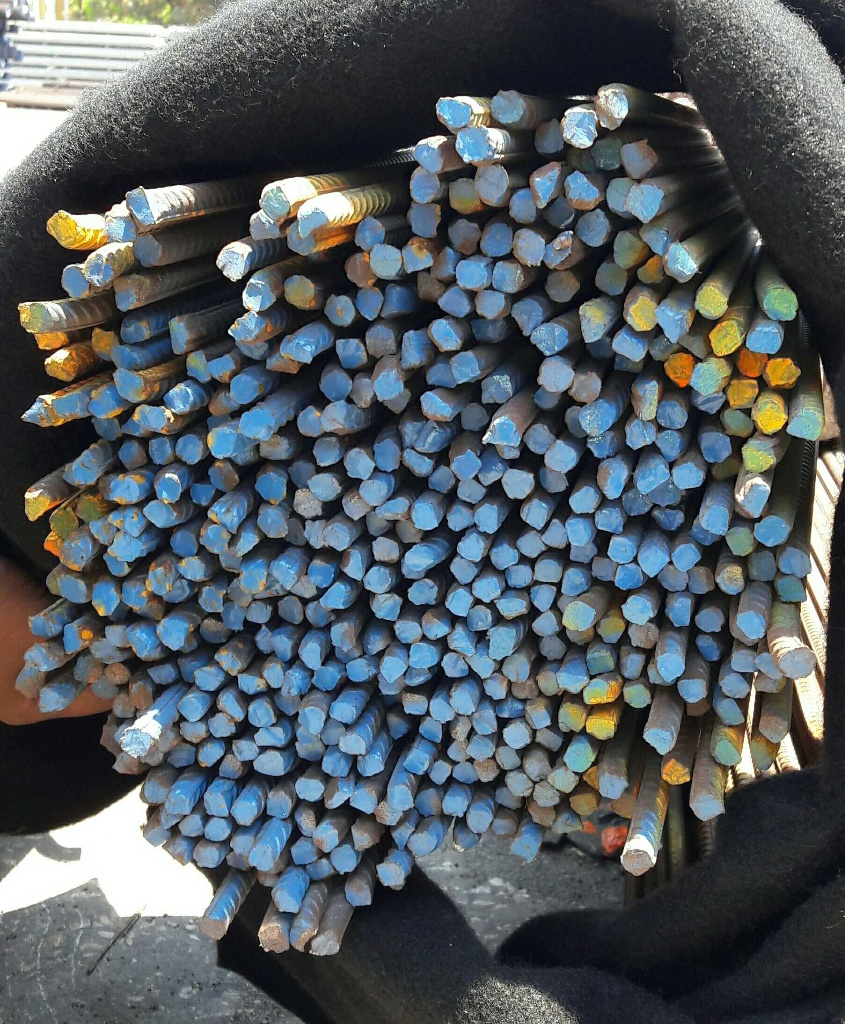dipstickw: (663, 241, 699, 282), (456, 126, 492, 166), (626, 185, 663, 222), (561, 109, 597, 147), (475, 163, 508, 204), (621, 142, 657, 178), (736, 479, 770, 517), (127, 188, 157, 231), (565, 172, 598, 211), (595, 90, 628, 129), (655, 306, 691, 341), (613, 232, 647, 268), (126, 627, 163, 660), (778, 647, 817, 678), (106, 206, 137, 244), (449, 178, 482, 213), (575, 211, 608, 246), (47, 210, 79, 246), (545, 233, 577, 269), (531, 323, 568, 354), (513, 229, 544, 266), (580, 308, 613, 342), (625, 297, 659, 330), (709, 321, 741, 356), (409, 203, 440, 239), (480, 223, 513, 256), (113, 367, 145, 401), (428, 320, 462, 352), (539, 360, 573, 392), (491, 90, 525, 122), (449, 219, 480, 254), (436, 97, 471, 128), (607, 177, 638, 212), (25, 397, 61, 427), (156, 620, 192, 650), (230, 313, 266, 343), (531, 171, 560, 208), (320, 402, 353, 434), (345, 254, 377, 287), (637, 460, 669, 493), (595, 262, 627, 295), (696, 286, 728, 319), (764, 289, 797, 321), (545, 271, 579, 302), (742, 441, 776, 472), (18, 303, 53, 333), (238, 410, 273, 440), (512, 300, 542, 335), (613, 331, 648, 361), (754, 516, 789, 546), (484, 418, 520, 447), (411, 167, 440, 203), (508, 188, 537, 224), (320, 370, 352, 402), (370, 244, 401, 277), (579, 403, 612, 434), (692, 362, 725, 393), (217, 248, 249, 279), (336, 338, 367, 370), (534, 121, 565, 153), (287, 221, 317, 254), (242, 280, 275, 310), (562, 601, 595, 631), (402, 330, 428, 368), (62, 265, 91, 299), (260, 187, 289, 221), (478, 451, 506, 486), (746, 325, 781, 353), (255, 473, 286, 504), (524, 423, 555, 454), (592, 138, 623, 169), (701, 432, 732, 463), (366, 326, 396, 358), (450, 352, 480, 384), (492, 261, 522, 293), (755, 402, 787, 432), (721, 408, 753, 438), (109, 532, 142, 561), (420, 392, 453, 421), (665, 354, 694, 387), (25, 643, 59, 671), (788, 413, 822, 441), (15, 667, 46, 697), (503, 469, 534, 499), (481, 375, 512, 405), (325, 295, 355, 326), (299, 208, 329, 239), (639, 226, 669, 257), (737, 346, 767, 377), (46, 352, 78, 381), (119, 728, 151, 757), (281, 335, 313, 364), (384, 285, 413, 317), (779, 548, 811, 577), (135, 405, 168, 433), (438, 288, 471, 316), (92, 327, 119, 361), (209, 461, 239, 491), (570, 373, 600, 403), (623, 595, 653, 625), (85, 254, 114, 285), (285, 275, 314, 306), (257, 509, 288, 538), (345, 448, 374, 479), (415, 420, 444, 451), (456, 260, 487, 289), (639, 548, 670, 577), (727, 379, 758, 408), (133, 234, 161, 266), (308, 474, 341, 501), (621, 849, 654, 876), (766, 358, 799, 385), (93, 581, 119, 615), (690, 795, 724, 821), (323, 747, 352, 777), (403, 449, 433, 478), (475, 290, 505, 319), (402, 245, 432, 274), (747, 551, 776, 581), (356, 218, 384, 249), (415, 142, 443, 173), (658, 430, 686, 461), (113, 278, 140, 310), (143, 500, 175, 527), (356, 289, 383, 321), (121, 314, 150, 343), (110, 475, 139, 504), (230, 374, 259, 403), (546, 442, 575, 471), (596, 469, 625, 498), (164, 384, 192, 414), (50, 507, 78, 537), (169, 319, 193, 354), (626, 420, 656, 448), (701, 506, 729, 536), (726, 527, 756, 555), (217, 690, 244, 721), (258, 926, 289, 953), (58, 575, 87, 603), (295, 488, 323, 517), (422, 611, 451, 639), (447, 629, 476, 657), (658, 400, 687, 428), (737, 610, 765, 639), (89, 391, 119, 418), (74, 656, 104, 683), (207, 428, 234, 458), (411, 502, 441, 529), (375, 371, 402, 401), (298, 406, 324, 437), (374, 440, 400, 471), (489, 628, 515, 659), (186, 350, 210, 383), (73, 456, 101, 484), (249, 211, 277, 239), (363, 627, 391, 655), (60, 542, 87, 571), (201, 525, 230, 552), (305, 601, 334, 628), (269, 562, 298, 589), (343, 491, 370, 520), (313, 437, 340, 466), (521, 500, 548, 529), (622, 488, 651, 515), (155, 473, 181, 503), (176, 434, 202, 464), (364, 567, 394, 593), (517, 531, 547, 557), (629, 622, 659, 648), (40, 687, 71, 712), (254, 751, 285, 776), (672, 463, 703, 488), (376, 498, 409, 521), (119, 441, 146, 469), (197, 739, 224, 767), (207, 355, 234, 383), (248, 700, 276, 727), (415, 788, 442, 816), (323, 523, 351, 550), (467, 734, 495, 761), (501, 655, 529, 682), (428, 465, 455, 493), (461, 404, 489, 431), (595, 508, 623, 535), (657, 652, 685, 679), (673, 544, 701, 571), (756, 652, 783, 680), (321, 584, 350, 610), (408, 579, 437, 605), (569, 486, 598, 512), (644, 729, 673, 755), (598, 773, 627, 799), (759, 717, 788, 743), (64, 624, 89, 654), (350, 378, 375, 408), (260, 435, 291, 459), (425, 364, 456, 388), (294, 738, 326, 761), (565, 406, 588, 438), (122, 581, 149, 608), (445, 589, 472, 616), (565, 744, 592, 771), (695, 635, 722, 662), (565, 518, 591, 546), (662, 759, 690, 785), (661, 565, 689, 591), (717, 567, 745, 593), (548, 768, 577, 793), (474, 504, 499, 533), (451, 455, 480, 480), (695, 607, 724, 632), (777, 576, 806, 601), (721, 673, 750, 698), (583, 680, 614, 703), (341, 549, 363, 581), (298, 707, 324, 734), (345, 880, 372, 906), (313, 825, 339, 852), (352, 824, 379, 850), (215, 649, 241, 676), (374, 594, 401, 620), (372, 537, 399, 563), (512, 835, 538, 862), (587, 649, 614, 675), (615, 563, 642, 589), (718, 699, 745, 725), (75, 495, 100, 523), (168, 741, 196, 766), (290, 925, 315, 953), (359, 480, 387, 505), (395, 519, 423, 544), (533, 781, 561, 806), (441, 652, 469, 677), (472, 577, 500, 602), (490, 545, 518, 570), (542, 521, 567, 549), (111, 346, 140, 370), (194, 666, 223, 690), (200, 618, 229, 642), (222, 601, 246, 630), (278, 596, 302, 625), (409, 644, 438, 668), (608, 539, 637, 563), (751, 741, 775, 770), (495, 598, 528, 619), (25, 491, 48, 521), (171, 530, 197, 556), (380, 655, 406, 681), (447, 505, 473, 531), (611, 793, 637, 819), (689, 567, 715, 593), (148, 567, 173, 594), (91, 637, 118, 662), (149, 437, 174, 464), (350, 788, 377, 813), (331, 622, 356, 649), (289, 462, 316, 487), (559, 707, 586, 732), (451, 558, 476, 585), (598, 618, 625, 643), (312, 667, 340, 691), (403, 750, 431, 774), (92, 417, 121, 440), (678, 679, 707, 702), (557, 672, 588, 693), (203, 792, 229, 817), (178, 557, 204, 582), (321, 719, 346, 745), (531, 585, 556, 611), (458, 534, 483, 560), (715, 739, 741, 764), (267, 792, 291, 819), (273, 889, 300, 913), (331, 845, 355, 872), (386, 712, 410, 739), (296, 778, 324, 801), (408, 833, 436, 856), (376, 802, 404, 825), (394, 620, 422, 643), (586, 717, 615, 739), (295, 808, 316, 838), (200, 587, 225, 612), (387, 785, 412, 810), (308, 562, 333, 587), (503, 723, 528, 748), (467, 605, 492, 630), (532, 612, 557, 637), (592, 556, 617, 581), (204, 816, 230, 840), (209, 712, 235, 736), (200, 917, 226, 941), (495, 745, 521, 769), (450, 690, 474, 716), (471, 710, 497, 734), (562, 569, 586, 595), (130, 682, 153, 709), (505, 564, 532, 587), (667, 599, 690, 626), (528, 803, 555, 826), (299, 642, 321, 670), (623, 685, 651, 707), (324, 788, 353, 809), (141, 781, 166, 805), (240, 569, 265, 593), (219, 754, 244, 778), (403, 692, 428, 716), (526, 705, 551, 729), (231, 802, 257, 825), (507, 773, 533, 796), (472, 759, 498, 782), (484, 673, 507, 699), (541, 469, 567, 492), (377, 864, 404, 886), (357, 754, 384, 776), (405, 548, 432, 570), (535, 728, 562, 750), (534, 560, 561, 582), (457, 480, 484, 502), (339, 734, 367, 755), (657, 509, 685, 530), (284, 670, 308, 694), (105, 624, 130, 647), (250, 846, 275, 869), (467, 810, 492, 833), (541, 636, 566, 659), (105, 663, 131, 685), (165, 793, 191, 815), (245, 601, 271, 623), (291, 842, 317, 864), (496, 787, 522, 809), (430, 698, 456, 720), (312, 934, 339, 955), (238, 674, 266, 694), (255, 626, 275, 654), (178, 698, 202, 721), (366, 512, 390, 535), (732, 650, 756, 673), (191, 483, 216, 505), (453, 761, 478, 783), (29, 616, 55, 637), (193, 846, 219, 867), (232, 740, 259, 760), (305, 521, 325, 548), (113, 694, 136, 717), (429, 760, 451, 784), (537, 671, 559, 695), (179, 815, 204, 836), (180, 721, 205, 742), (308, 859, 333, 880), (420, 717, 441, 742), (443, 796, 468, 817), (571, 794, 596, 815), (623, 654, 644, 679), (149, 664, 175, 684), (264, 662, 284, 688), (329, 702, 355, 722), (93, 680, 120, 699), (455, 828, 478, 850), (347, 660, 371, 681), (406, 666, 432, 685), (447, 740, 470, 761), (272, 636, 292, 660), (230, 835, 253, 855), (146, 828, 170, 845), (493, 819, 516, 835)
